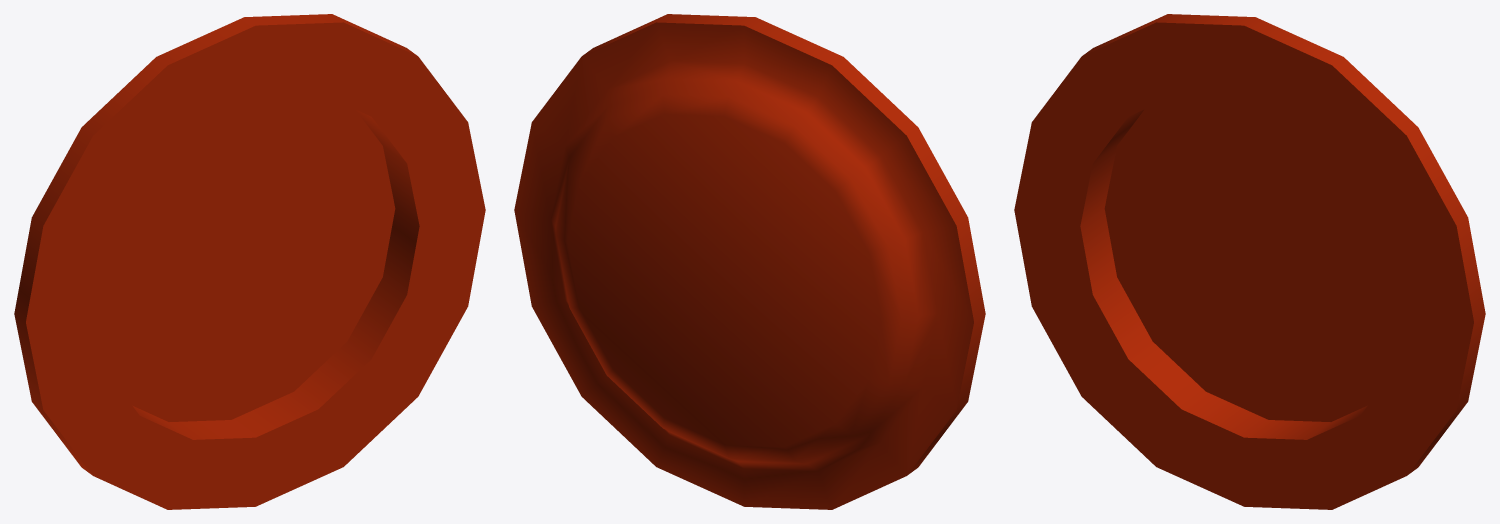
Rendered from sCap_03.FBX.
3 views of the same model, side by side, from view 1: azimuth 30°, elevation 25°; view 2: azimuth 150°, elevation 25°; view 3: azimuth 330°, elevation 25° (orthographic).
Parts seen in each view (by area): view 1: Caps_up1_003_Low003; view 2: Caps_up1_003_Low003; view 3: Caps_up1_003_Low003.
Part boxes in pixels (x1,y1,x2,y2): Caps_up1_003_Low003: [14, 14, 485, 509]; Caps_up1_003_Low003: [514, 14, 985, 509]; Caps_up1_003_Low003: [1014, 14, 1485, 509].
Bounding box in the file's own units: 19 × 19 × 2.24.
